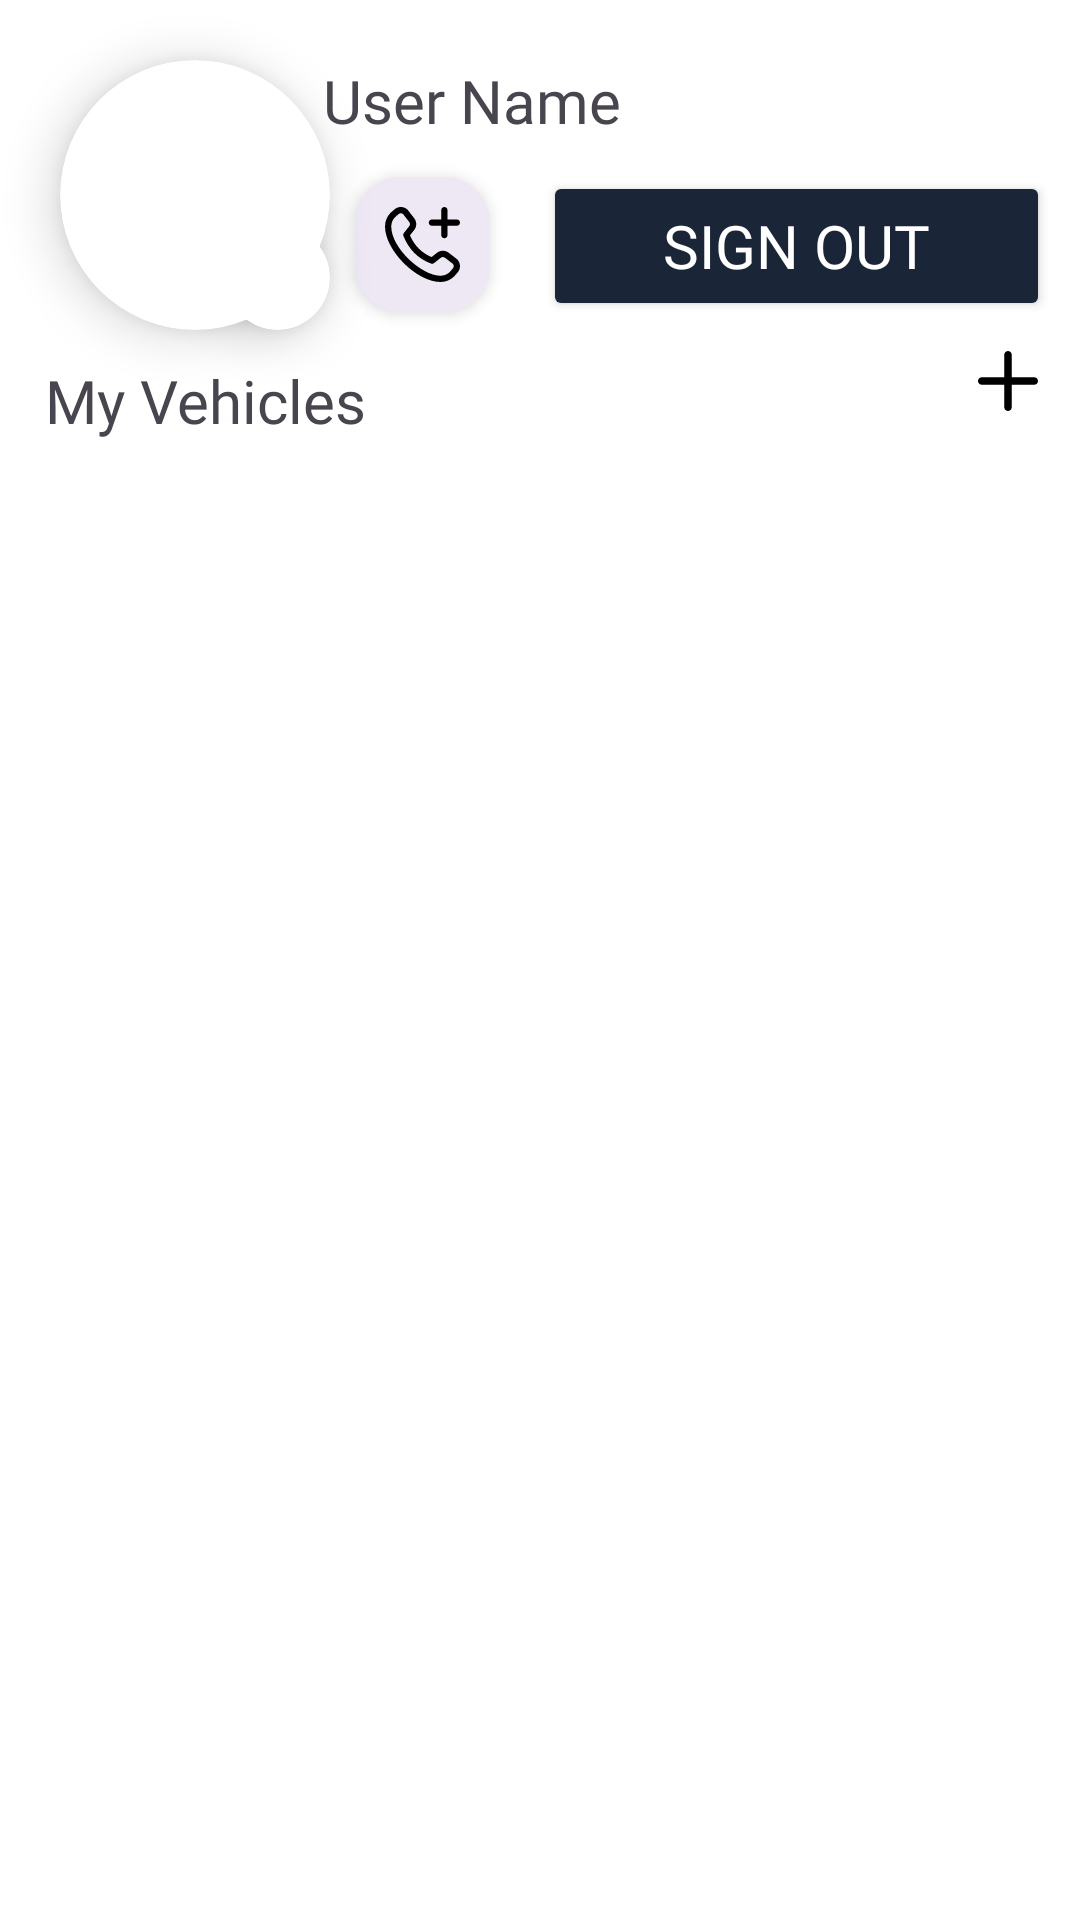

Icon click points for this 1080x1920 phone screenshot, format point (x, y):
add: point (1008, 381)
addcontact: point (422, 244)
